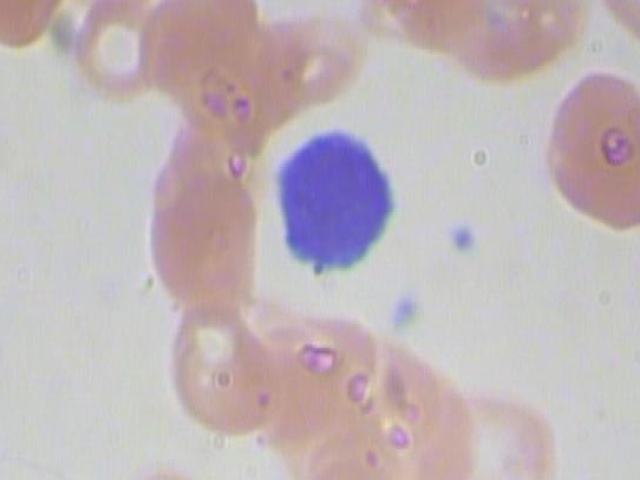Platelets: (441, 219, 482, 260), (381, 288, 422, 329)
RBC: (532, 62, 640, 243), (259, 295, 384, 447), (152, 302, 282, 444), (328, 337, 453, 480), (141, 167, 264, 308), (432, 365, 563, 480), (173, 24, 289, 153), (262, 0, 377, 120), (458, 0, 597, 85), (63, 0, 162, 111), (354, 0, 492, 50), (0, 0, 75, 55), (127, 450, 235, 480), (301, 450, 409, 480), (590, 0, 640, 47), (613, 0, 640, 82)
WBC: (272, 125, 398, 284)
